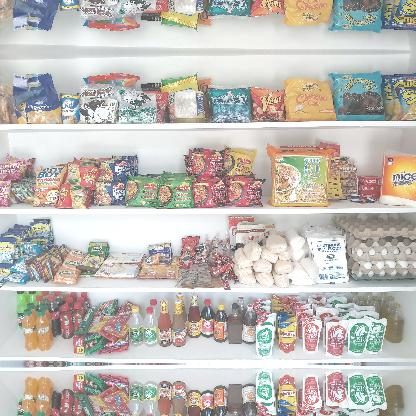Koko-Krunch: (172, 90, 206, 122), (172, 0, 206, 15)
